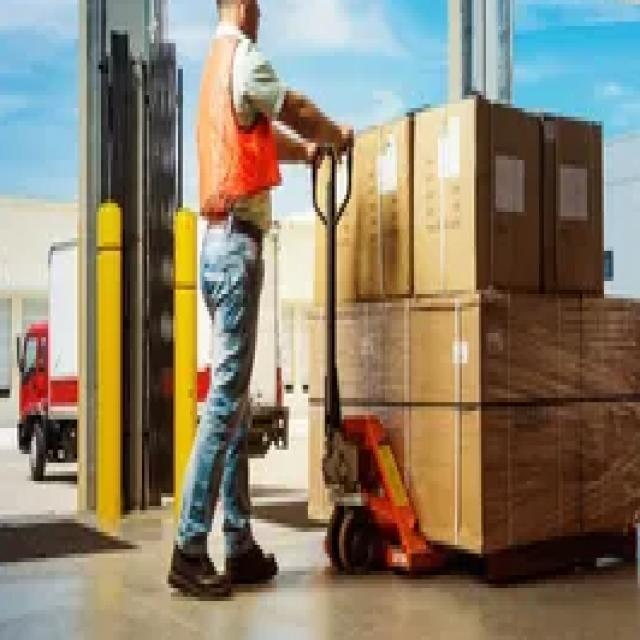boots: (162, 523, 284, 609)
vest: (197, 23, 284, 243)
